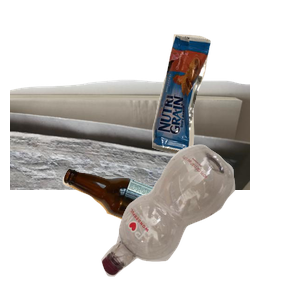glass: (60, 166, 241, 300)
paper: (10, 77, 250, 257)
plastic: (99, 142, 300, 300)
trash: (149, 31, 300, 179)
